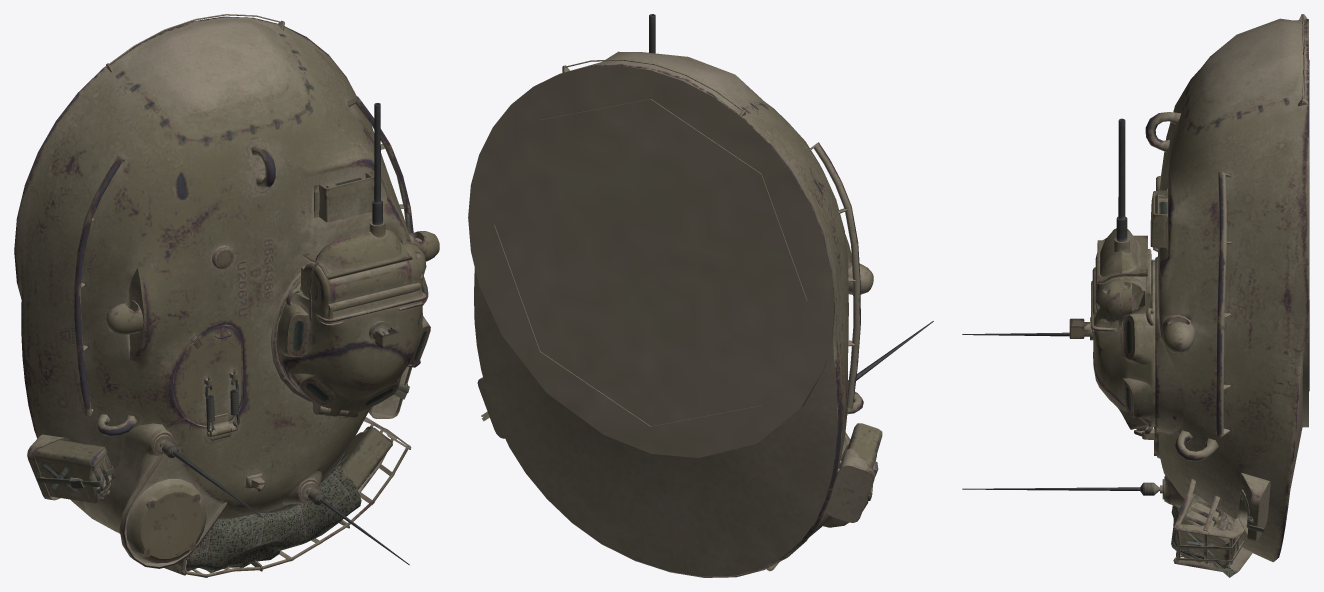
The model's file is Turret_01.glb.
The picture shows the model from 3 angles, left to right: view 1: azimuth 30°, elevation 25°; view 2: azimuth 150°, elevation 25°; view 3: azimuth 270°, elevation 25°; orthographic projection. The views are drawn at different scales.
Visible parts, largest first — view 1: set_0_group_0; view 2: set_0_group_0; view 3: set_0_group_0.
Part boxes in pixels (x1=…): set_0_group_0: x1=14, y1=14, x2=439, y2=577; set_0_group_0: x1=468, y1=14, x2=933, y2=577; set_0_group_0: x1=962, y1=14, x2=1309, y2=577.
Bounding box in the file's own units: 2.68 × 3.44 × 2.09.
Materials: 1 (1 with a texture image).
